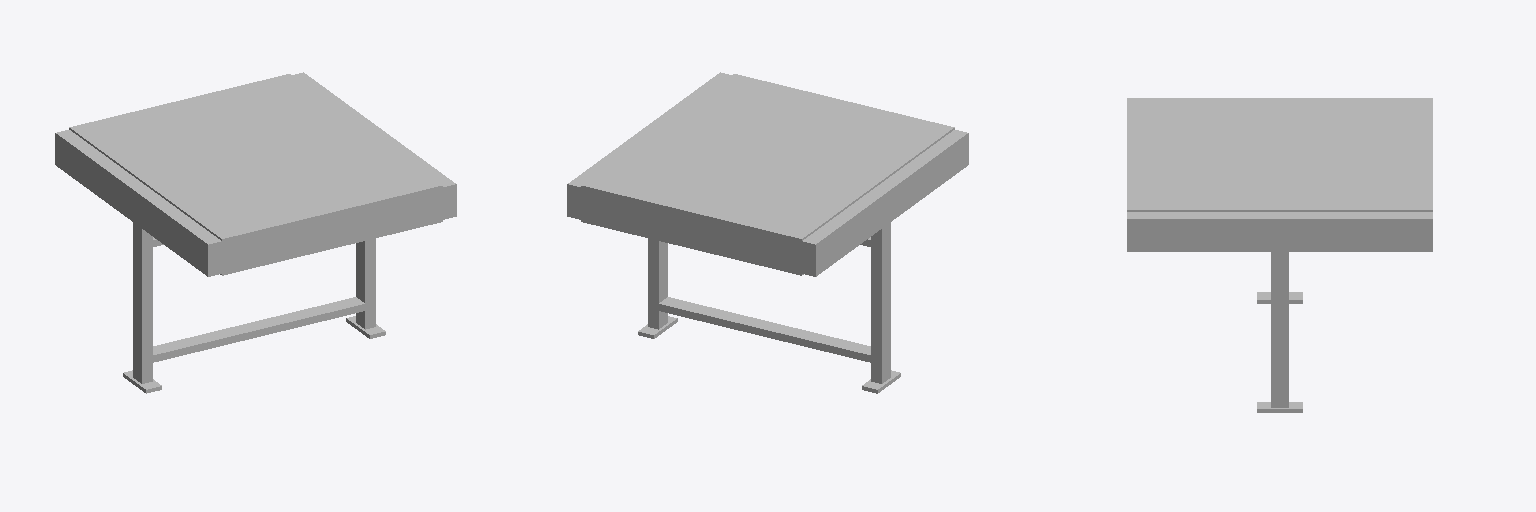
The model's file is foeder_standart_weiter_CUT.obj.
3 views of the same model, side by side, from view 1: azimuth 30°, elevation 25°; view 2: azimuth 150°, elevation 25°; view 3: azimuth 270°, elevation 25° (orthographic).
Bounding box in the file's own units: 1.88 × 1.44 × 2.